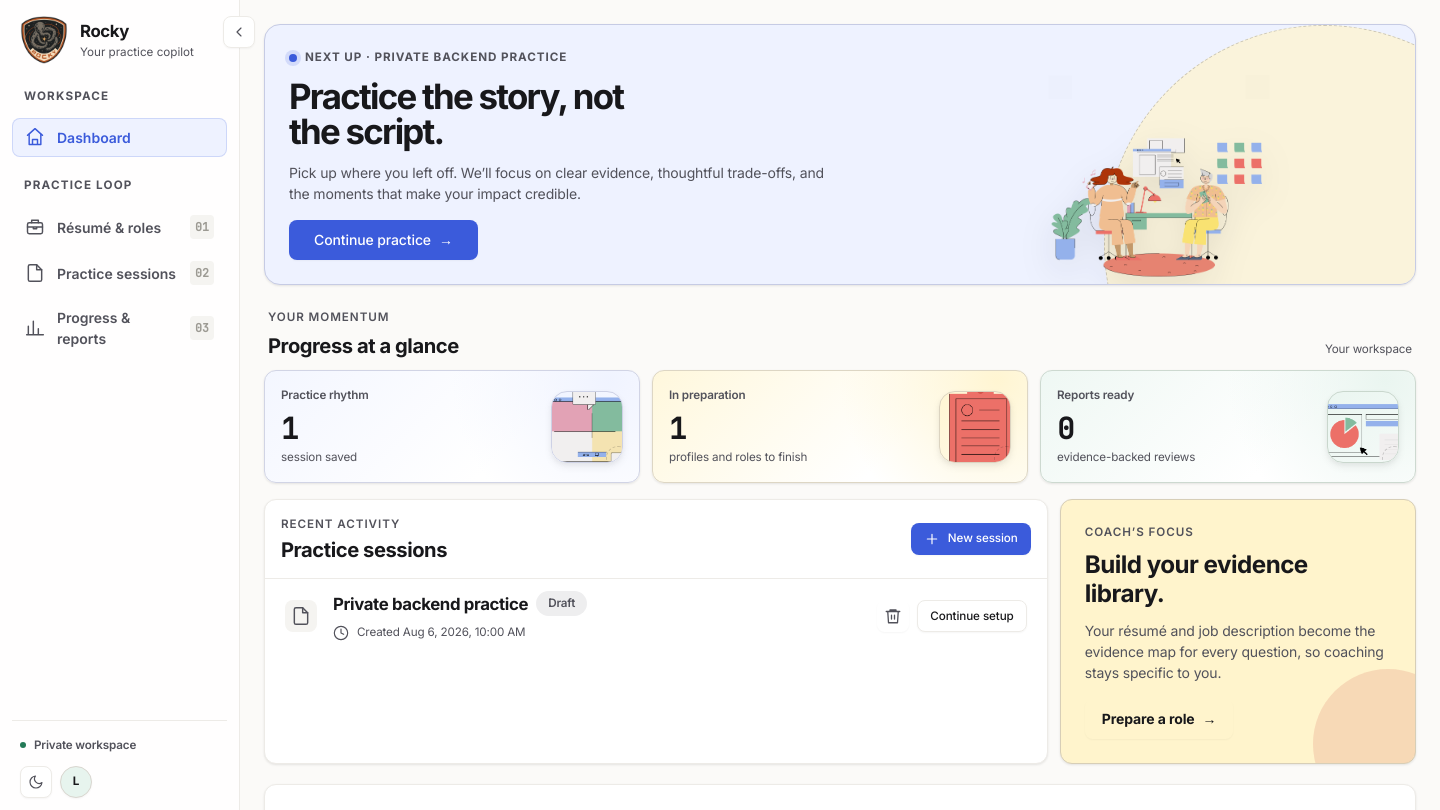
Test: session dashboard › requires confirmation before permanently deleting a session
Click the button named "Delete Private backend practice" at {"x": 893, "y": 616}, box [877,600,909,632]
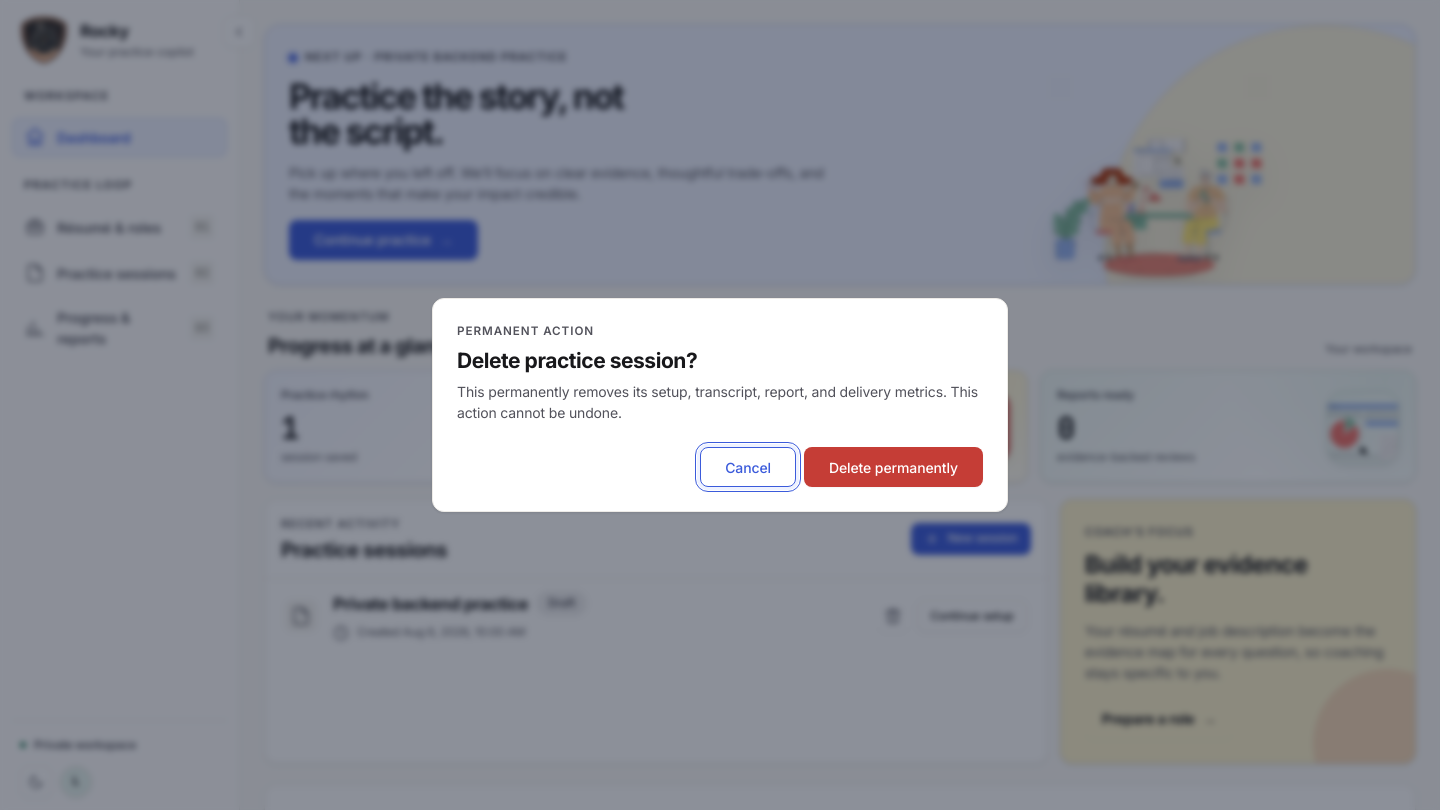
Expected: the dialog "Delete practice session?" is shown, [432,298,1008,512]
Expected: the text "transcript, report, and delivery metrics" is shown, [457,383,978,421]
Click the button "Delete permanently" at {"x": 894, "y": 467}, box [804,447,983,487]
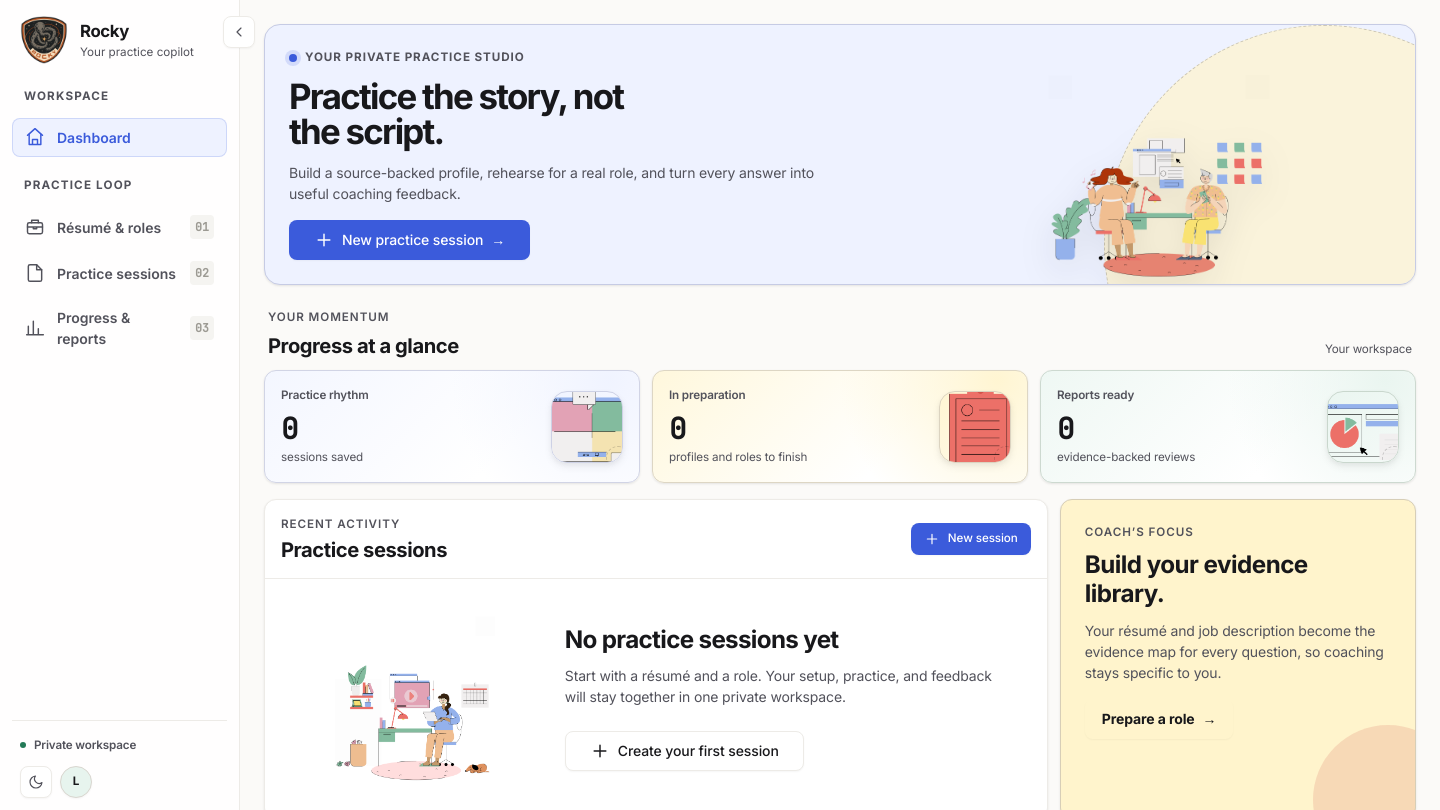
Expected: the text "Private backend practice" is gone
